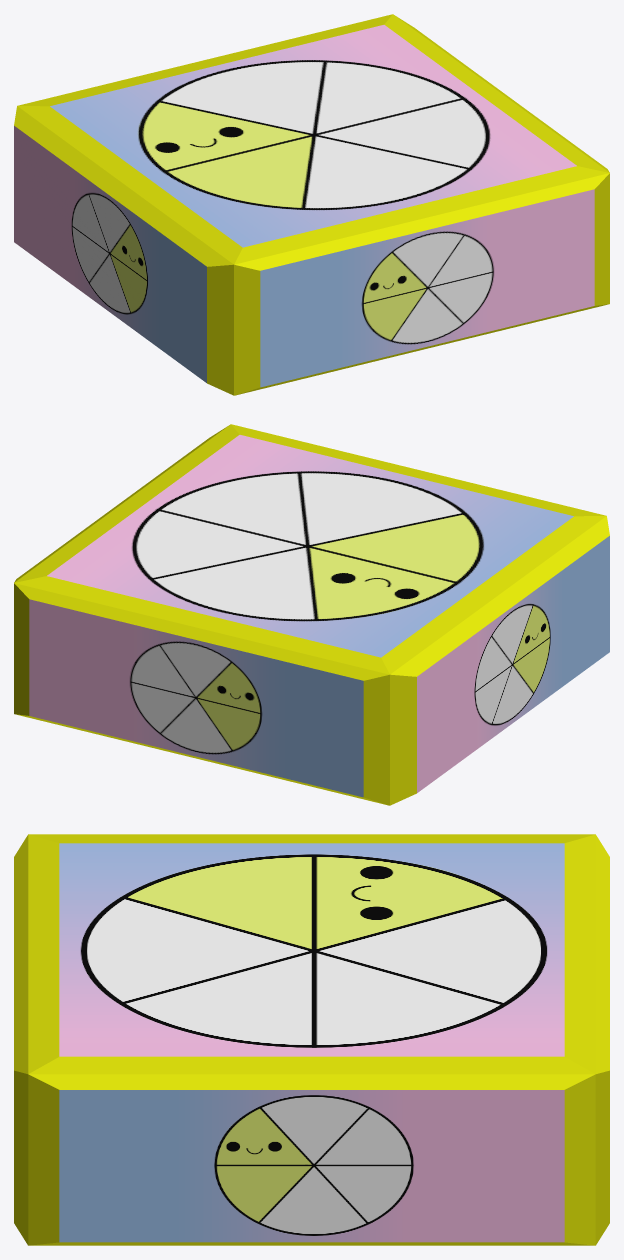
The model's file is Fracciones dos sextos.fbx.
3 renders of one model, top to bottom at view 1: azimuth 30°, elevation 25°; view 2: azimuth 150°, elevation 25°; view 3: azimuth 270°, elevation 25°, orthographic. The views are drawn at different scales.
Visible parts, largest first — view 1: 2/6; view 2: 2/6; view 3: 2/6.
Boxes of the visible parts, left/top/right/bottom form: 2/6: left=14, top=14, right=609, bottom=395; 2/6: left=14, top=424, right=609, bottom=805; 2/6: left=14, top=834, right=609, bottom=1245.
Bounding box in the file's own units: 213 × 69.99 × 210.
Materials: 2 (1 with a texture image).
